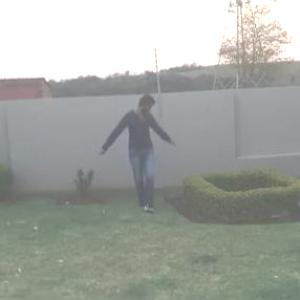land: (92, 92, 188, 224)
